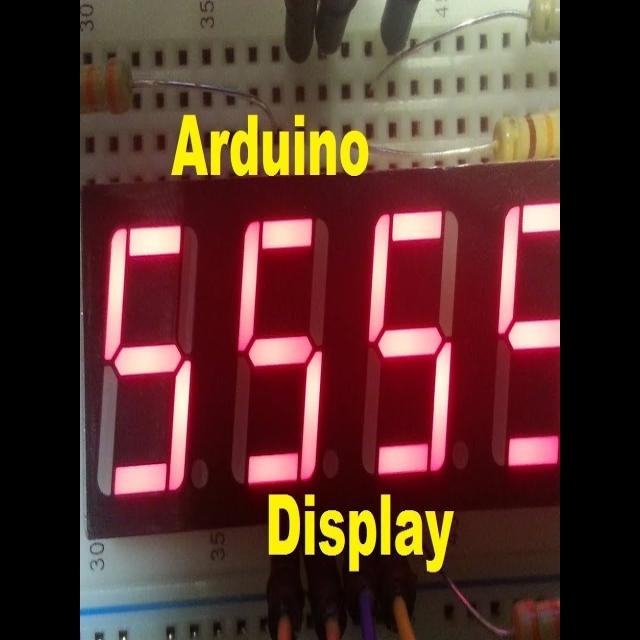display: (82, 157, 560, 538)
frame: (97, 194, 561, 513)
